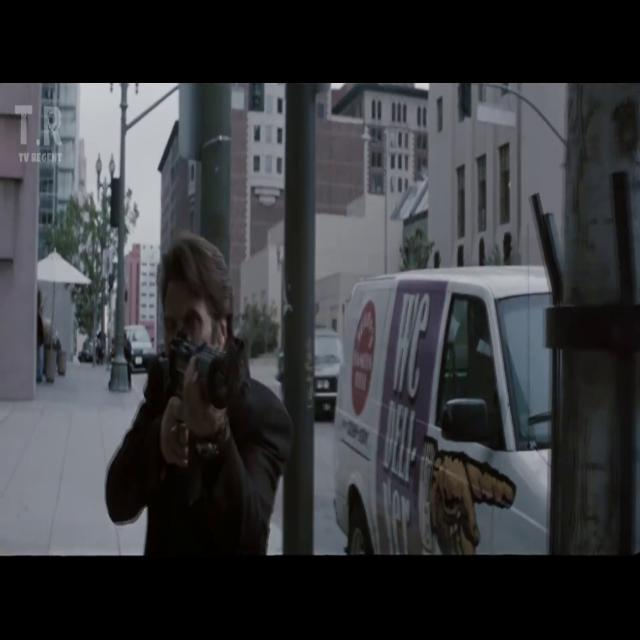long weapon: (148, 329, 260, 471)
